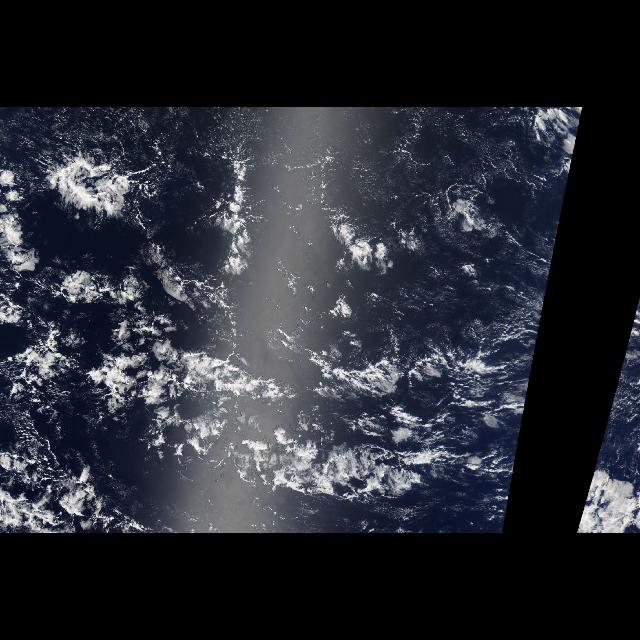Fish: (88, 338, 432, 508)
Flower: (1, 109, 584, 323)
Gravel: (375, 121, 543, 266), (4, 371, 102, 481)
Sugar: (363, 257, 551, 443), (315, 108, 539, 192), (1, 107, 276, 167)
